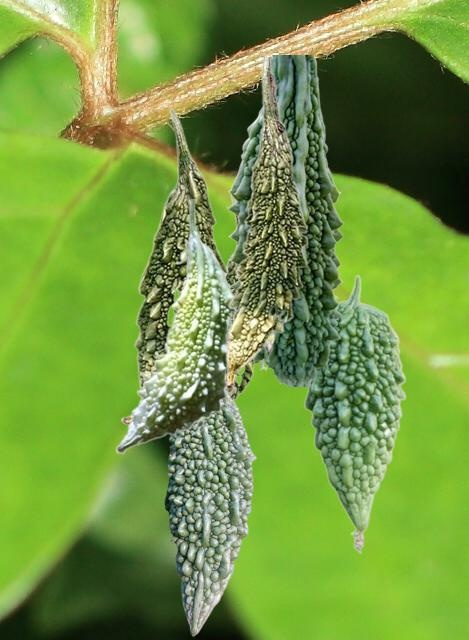ampalaya: (226, 55, 343, 385), (120, 106, 228, 424), (115, 199, 235, 453), (303, 274, 405, 553), (225, 57, 308, 394), (164, 395, 255, 635), (226, 195, 259, 400)
